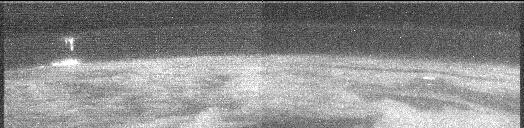positive: (61, 36, 78, 52)
